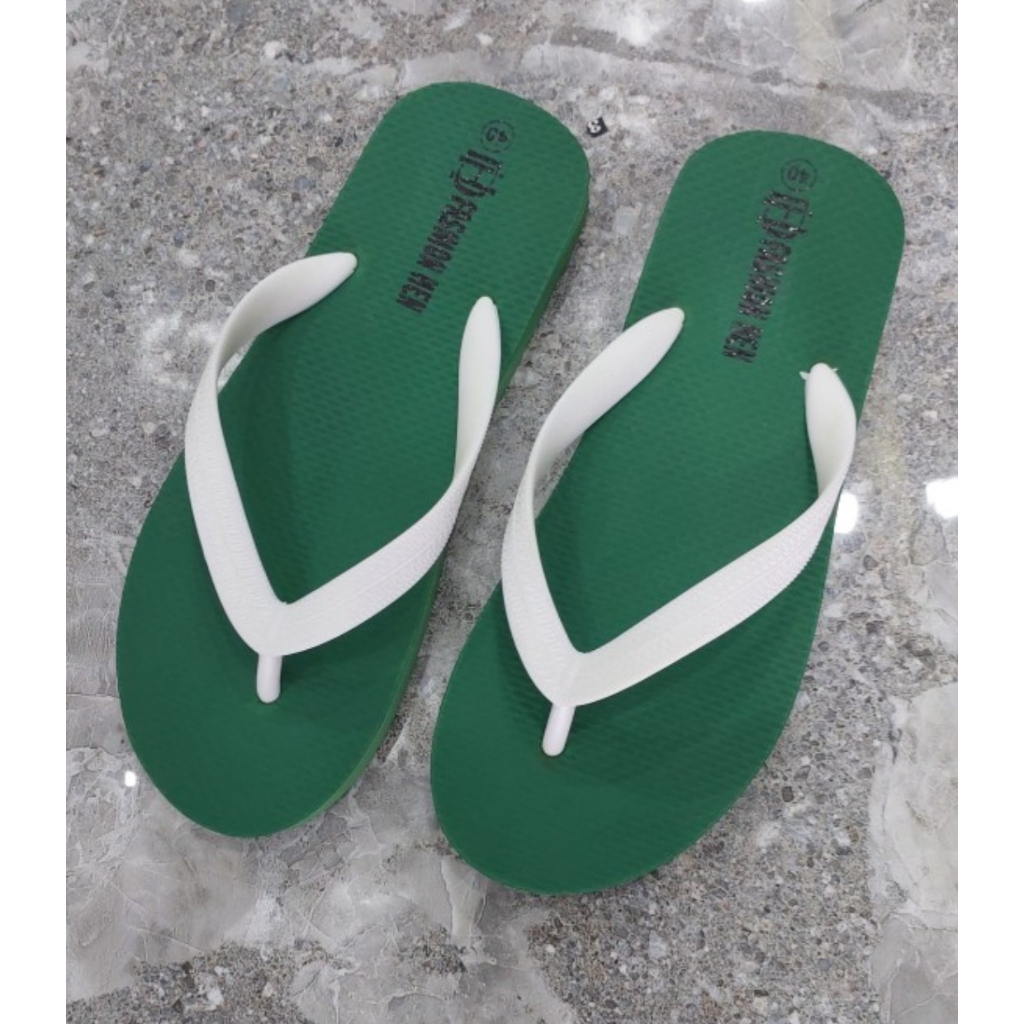flip_flops: (429, 129, 909, 897), (112, 81, 593, 843)
